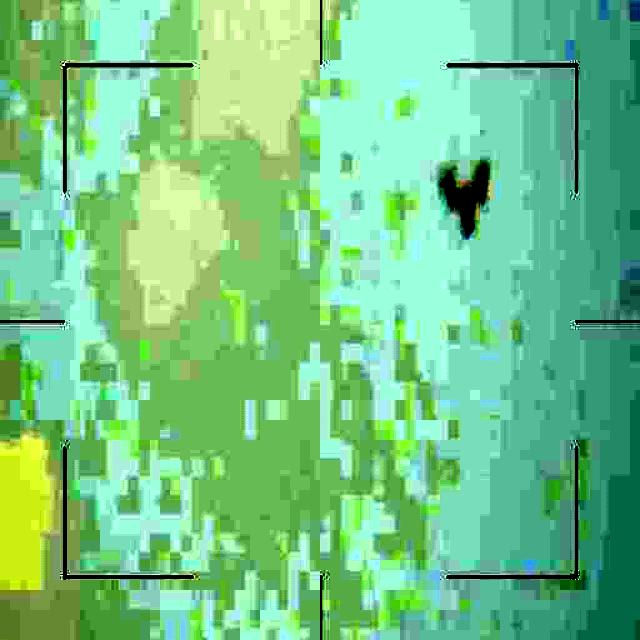bird: (441, 166, 494, 236)
